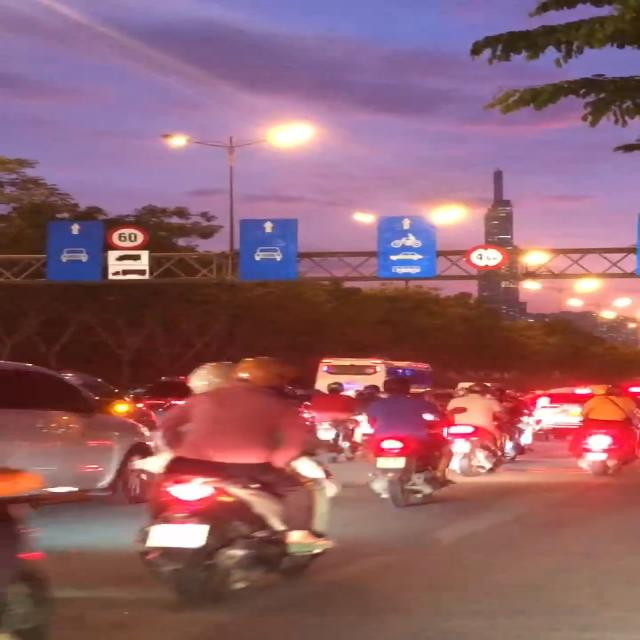Bien bao han che chieu cao: (459, 240, 519, 275)
Bien bao toc do toi da cho phep: (102, 217, 152, 251)
